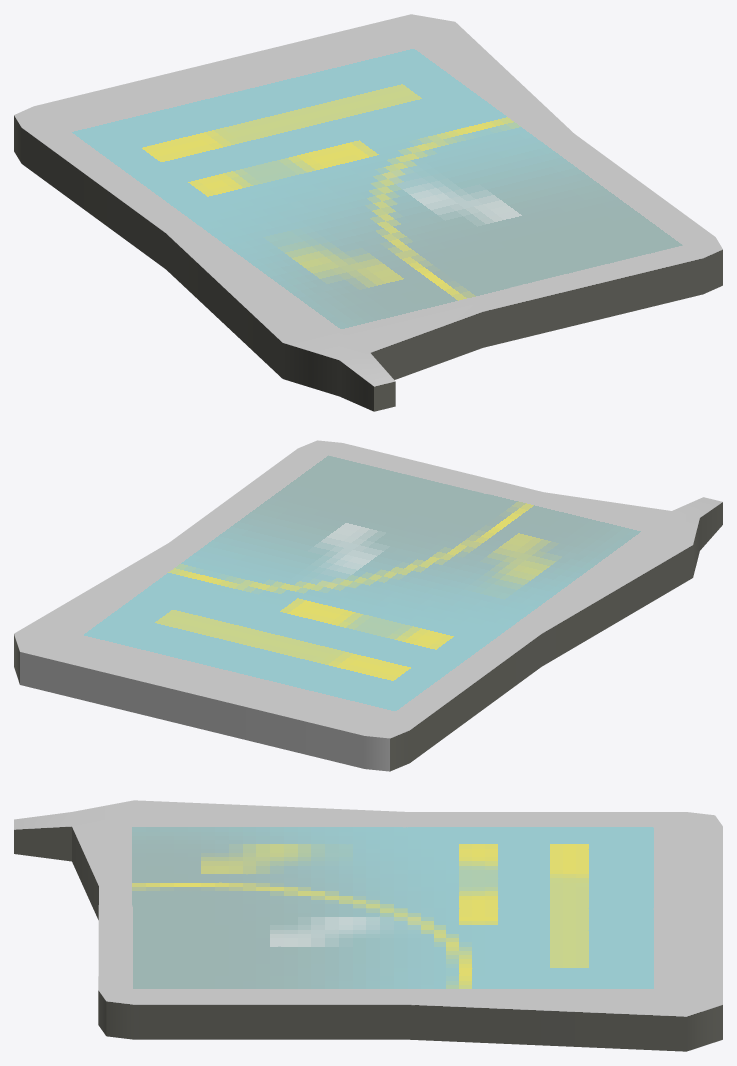
The model's file is tablet.fbx.
3 views of the same model, one above another, from view 1: azimuth 30°, elevation 25°; view 2: azimuth 150°, elevation 25°; view 3: azimuth 270°, elevation 25° (orthographic). The views are drawn at different scales.
Parts seen in each view (by area): view 1: tablet_mesh; view 2: tablet_mesh; view 3: tablet_mesh.
Part boxes in pixels (bbox=[...]): tablet_mesh: bbox=[14, 14, 722, 411]; tablet_mesh: bbox=[14, 440, 722, 771]; tablet_mesh: bbox=[14, 800, 722, 1051].
Size of the model in its own units: 3.37 by 0.2547 by 4.67.
2 materials, 2 textured.
